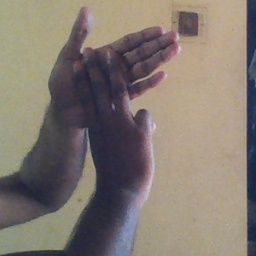M: (39, 4, 183, 173)
